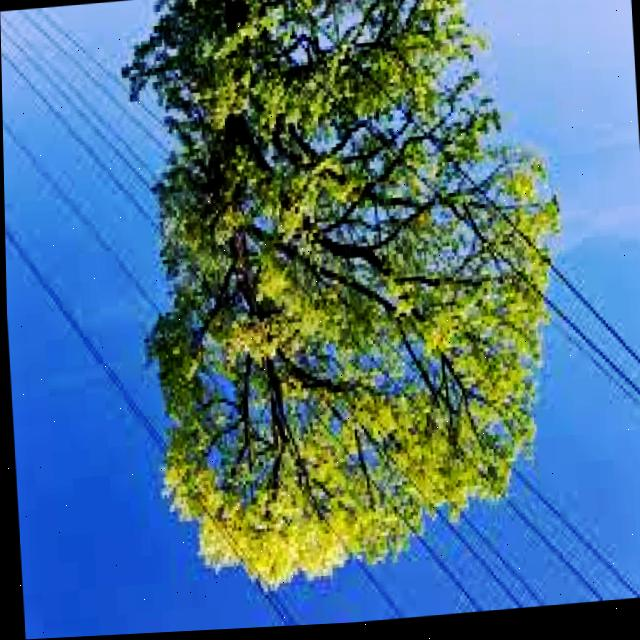obstruction: (123, 0, 556, 590)
wires: (0, 11, 170, 241), (398, 477, 636, 618), (2, 123, 166, 318), (68, 321, 161, 458), (333, 124, 445, 200), (309, 566, 402, 623), (421, 166, 494, 213), (248, 584, 298, 629)
